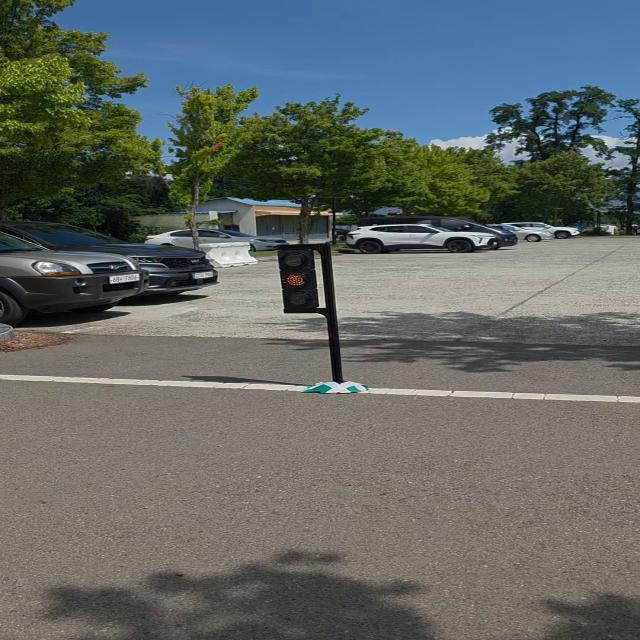yellow: (274, 243, 325, 315)
